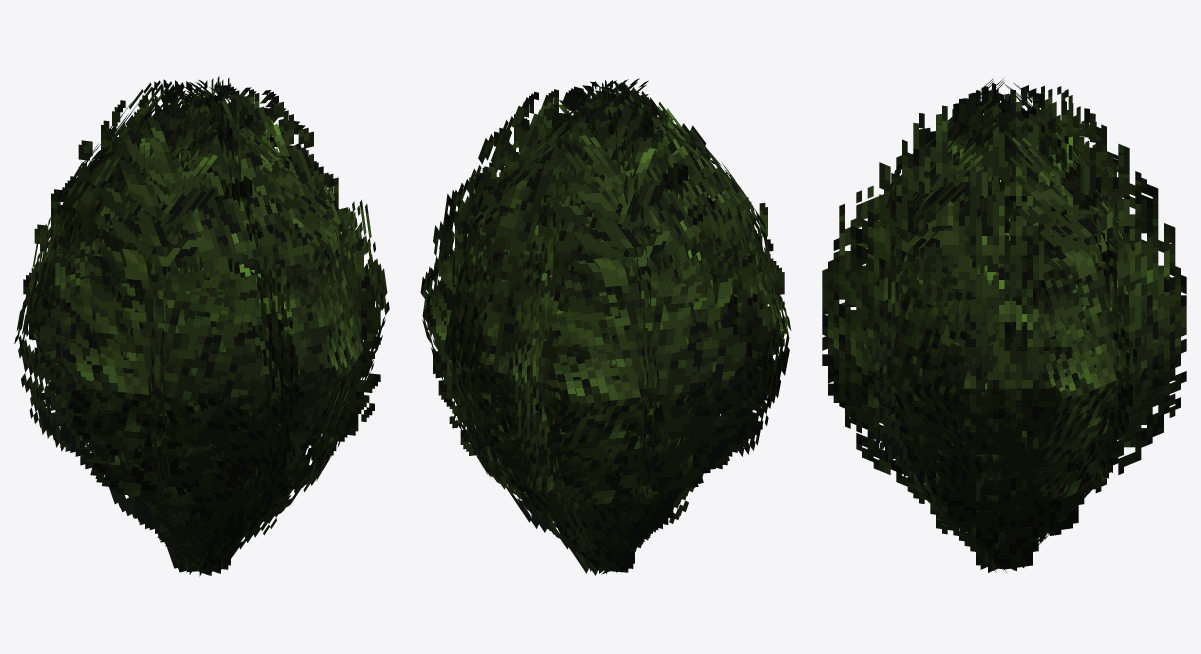
The model's file is bush07_summer.glb.
3 views of the same model, side by side, from view 1: azimuth 30°, elevation 25°; view 2: azimuth 150°, elevation 25°; view 3: azimuth 270°, elevation 25° (orthographic).
Visible parts, largest first — view 1: bush07; view 2: bush07; view 3: bush07.
Boxes of the visible parts, box(x1,y1,x2,y2) form: bush07: box(14, 76, 389, 576); bush07: box(420, 78, 791, 575); bush07: box(822, 78, 1186, 572).
Bounding box in the file's own units: 1.05 × 1.5 × 1.05.
1 material, 1 textured.
